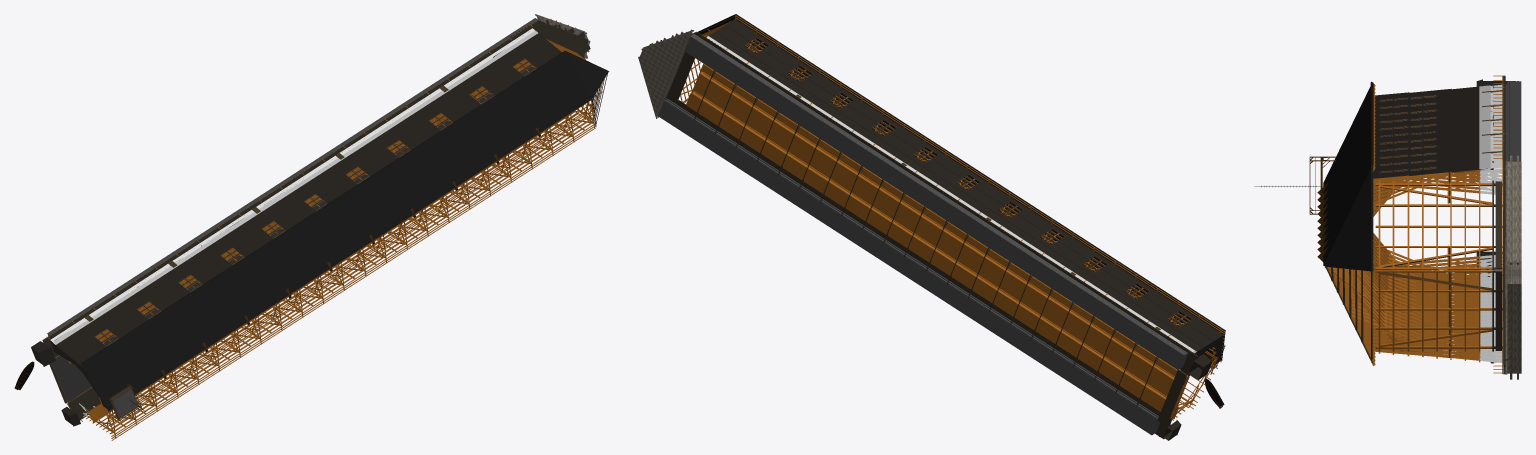
3 renders of one model, left to right at view 1: azimuth 30°, elevation 25°; view 2: azimuth 150°, elevation 25°; view 3: azimuth 270°, elevation 25°, orthographic. The views are drawn at different scales.
Visible parts, largest first — view 1: Dach.003, Hallen-Struktur.002, Seitenflächen.003, Kreuz.002, Ponton_Unterbau.001, Panele unten.002, Ponton_top.001, Fenster.002, Streben.001, Ausguck.001, Schuppen_L.001; view 2: Ponton_Unterbau.001, Seitenflächen.003, Pontom_unten.001, Hallen-Struktur.002, Ponton_top.001, Dach.003, Ponton_Unterbau_H.001, Fenster.002, Schuppen_L.001; view 3: Hallen-Struktur.002, Hallen-Struktur_H.001, Seitenflächen.003, Dach.003, Streben.001, Ponton_Unterbau_H.001, Fenster.002, Kreuz.002, Ponton_Unterbau.001, Balken Dach H.001, Panele unten.002, Dachspitzen.001 (+2 smaller).
Part boxes in pixels (x1,y1,x2,y2): Dach.003: [81, 51, 609, 411]; Hallen-Struktur.002: [42, 19, 603, 440]; Seitenflächen.003: [53, 30, 561, 366]; Kreuz.002: [85, 62, 592, 428]; Ponton_Unterbau.001: [47, 18, 539, 396]; Panele unten.002: [50, 28, 534, 341]; Ponton_top.001: [52, 65, 535, 402]; Fenster.002: [94, 58, 537, 346]; Streben.001: [95, 102, 592, 427]; Ausguck.001: [105, 382, 141, 421]; Schuppen_L.001: [31, 341, 80, 426]; Ponton_Unterbau.001: [658, 33, 1188, 435]; Seitenflächen.003: [706, 19, 1223, 352]; Pontom_unten.001: [688, 71, 1174, 408]; Hallen-Struktur.002: [649, 15, 1224, 439]; Ponton_top.001: [687, 63, 1189, 418]; Dach.003: [698, 14, 1225, 360]; Ponton_Unterbau_H.001: [638, 29, 693, 118]; Fenster.002: [743, 36, 1193, 327]; Schuppen_L.001: [1163, 353, 1212, 440]; Hallen-Struktur.002: [1324, 75, 1505, 374]; Hallen-Struktur_H.001: [1373, 180, 1502, 351]; Seitenflächen.003: [1373, 85, 1490, 178]; Dach.003: [1323, 81, 1373, 270]; Streben.001: [1333, 99, 1447, 357]; Ponton_Unterbau_H.001: [1505, 155, 1521, 379]; Fenster.002: [1378, 94, 1437, 173]; Kreuz.002: [1367, 95, 1502, 360]; Ponton_Unterbau.001: [1505, 81, 1521, 161]; Balken Dach H.001: [1325, 266, 1372, 362]; Panele unten.002: [1490, 85, 1502, 169]; Dachspitzen.001: [1317, 182, 1328, 261].
Bounding box in the file's own units: 0.566 × 0.275 × 0.1136.
Materials: 22 (1 with a texture image).
